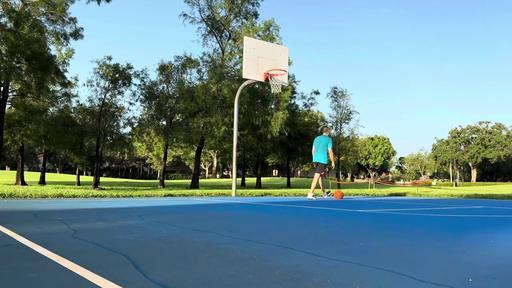ball: (334, 190, 344, 200)
human: (306, 127, 336, 200)
rim: (267, 69, 287, 94)
